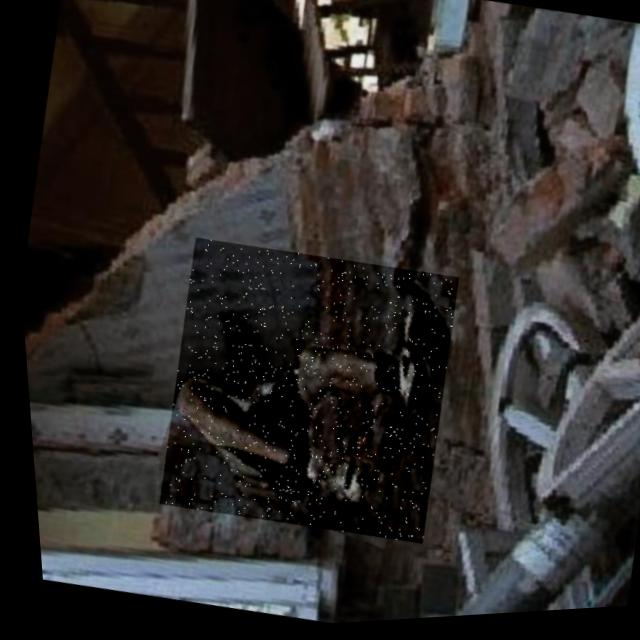Person in Rubble: (136, 227, 469, 559)
